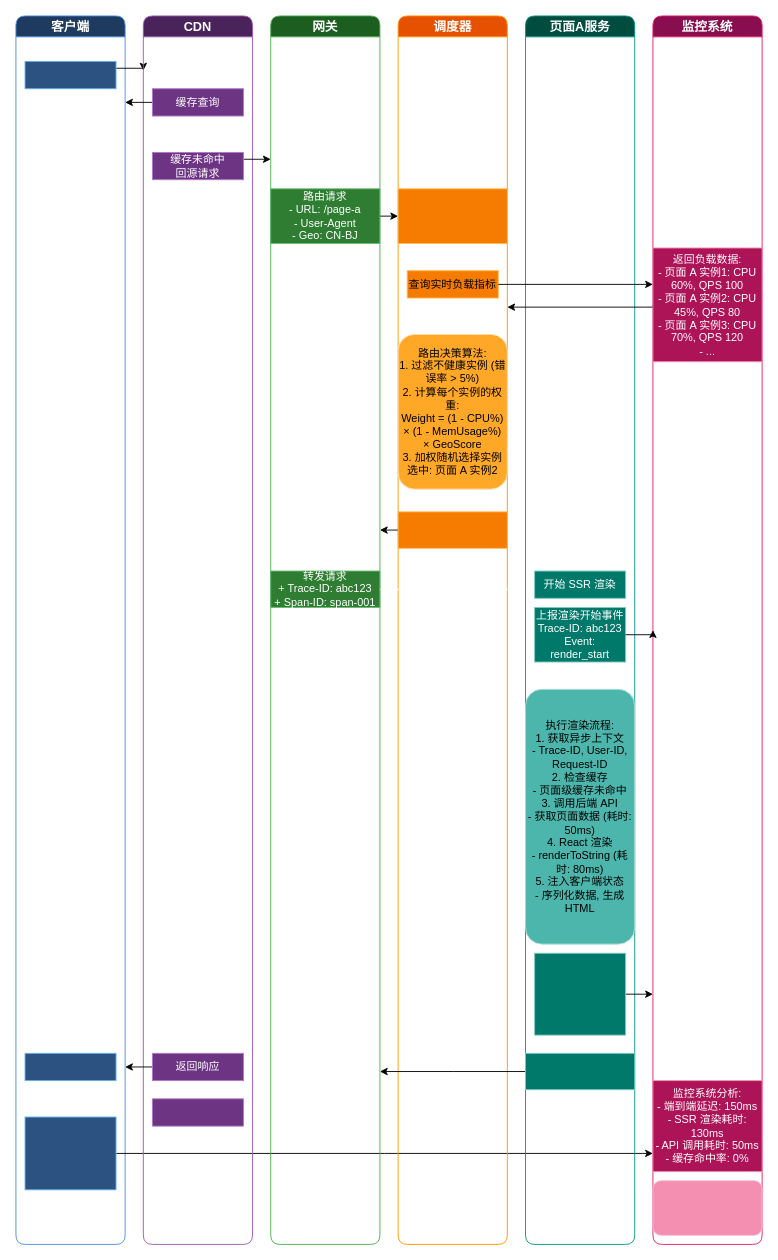
Image size: 778x1260. Some labels were removed from this diagram. Here are the shapes that lost their labels. From the top down, the centre of each, then its label:
At [70,75]: "HTTP 请求 /page-a".
At [452,215]: "查询服务实例列表 - 页面 A: 8 个实例 - 页面 B: 2 个实例".
At [452,529]: "返回路由结果 Target: page-a-instance-2".
At [580,993]: "上报渲染完成事件 Trace-ID: abc123 Event: render_complete Duration: 130ms CacheHit: false".
At [70,1066]: "返回 HTML TTFB: 150ms".
At [580,1071]: "返回 HTML + Set-Cookie + Cache-Control".
At [197,1112]: "缓存 HTML TTL: 60s".
At [70,1153]: "客户端上报性能指标 - FCP: 200ms - LCP: 350ms - TTI: 500ms".
At [707,1207]: "智能优化建议: - 该页面缓存命中率低 - 建议增加缓存 TTL - API 调用可优化".
